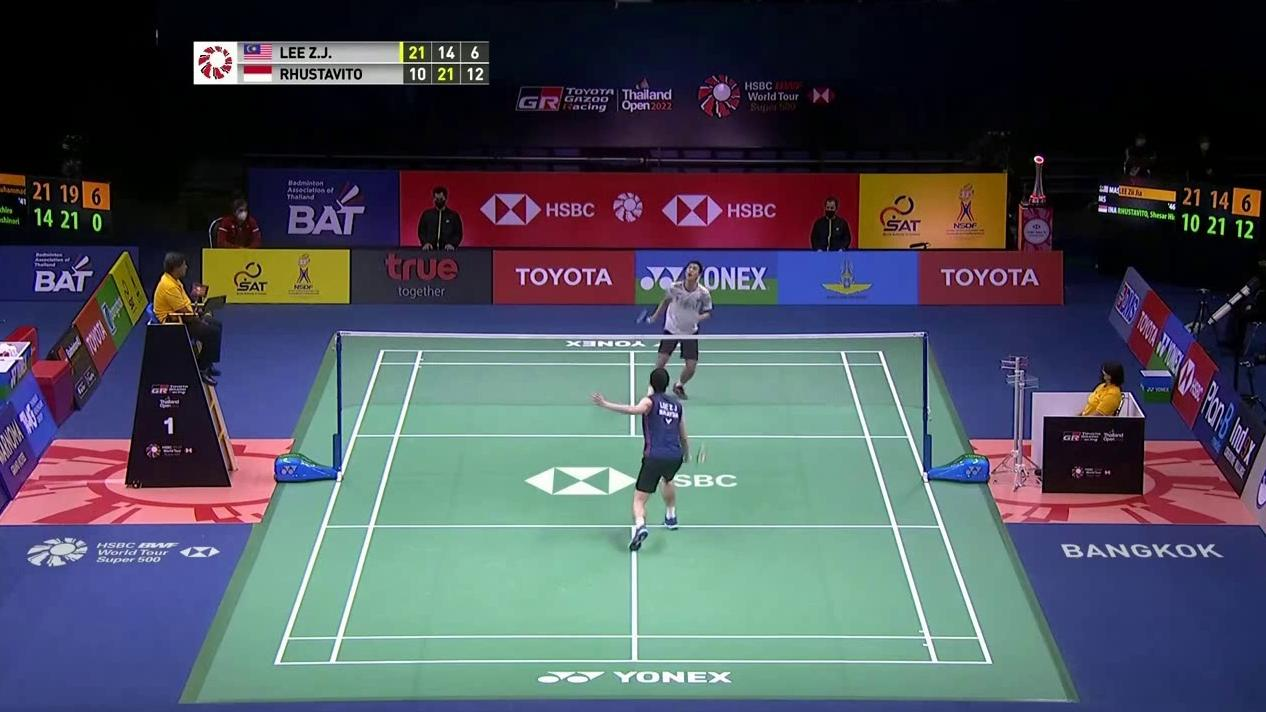racket: (682, 441, 710, 470), (634, 306, 656, 327)
shuttle: (716, 82, 726, 93)
